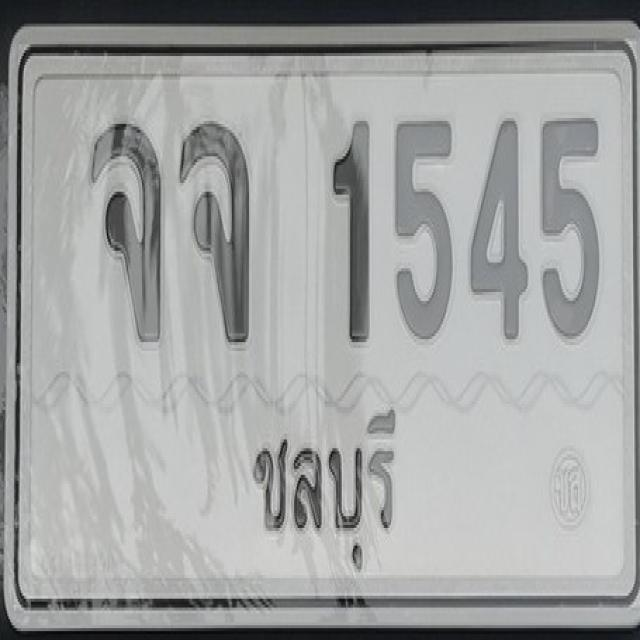license_plate: (5, 20, 640, 625)
